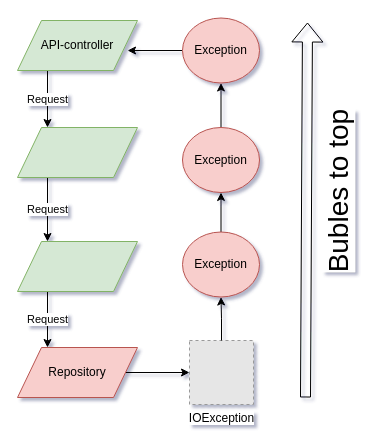
The diagram is 379 pixels wide and 448 high, and some of its shapes have lost their labels. Grey dashed boxes stand in for pictures. The shapes that lost their labels are listed below. From the top down, each one's centre as x and y in pixels, then its label:
(77,152): Validator
(77,266): Service
